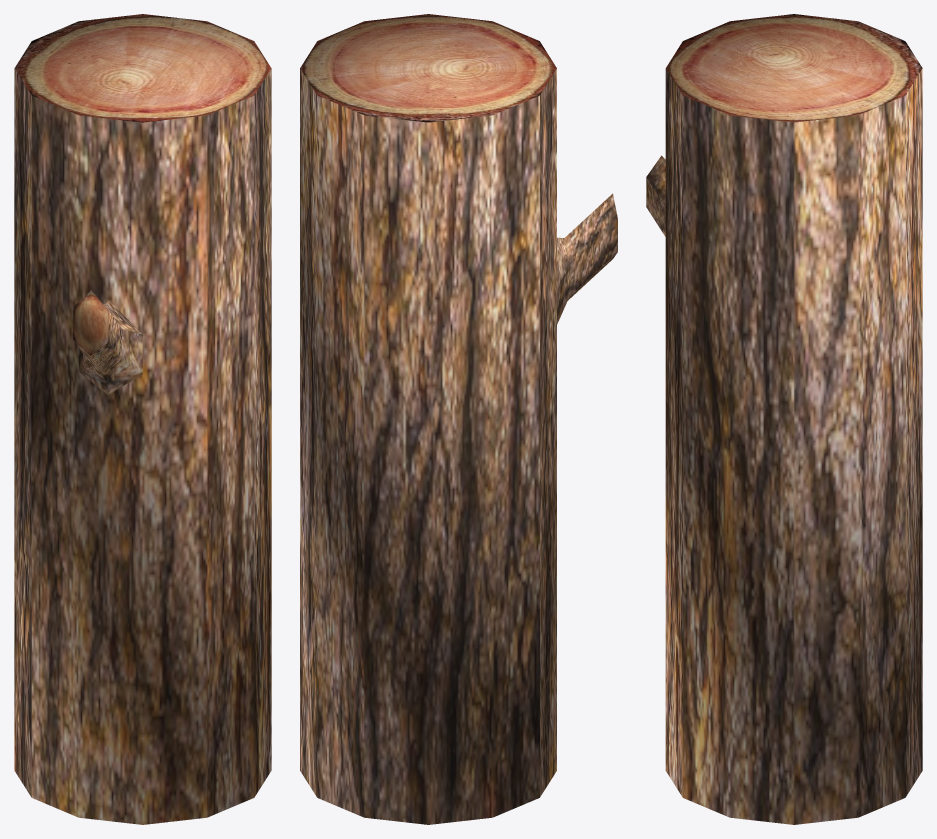
File: Firewood_org.fbx
3 renders of one model, left to right at view 1: azimuth 30°, elevation 25°; view 2: azimuth 150°, elevation 25°; view 3: azimuth 270°, elevation 25°, orthographic.
Parts seen in each view (by area): view 1: Firewood_org; view 2: Firewood_org; view 3: Firewood_org.
Part boxes in pixels (box(x1,y1,x2,y2)): Firewood_org: box(14, 14, 271, 824); Firewood_org: box(300, 14, 617, 824); Firewood_org: box(646, 14, 922, 824).
Size of the model in its own units: 21.63 by 60.3 by 21.51.
1 material, 1 textured.
